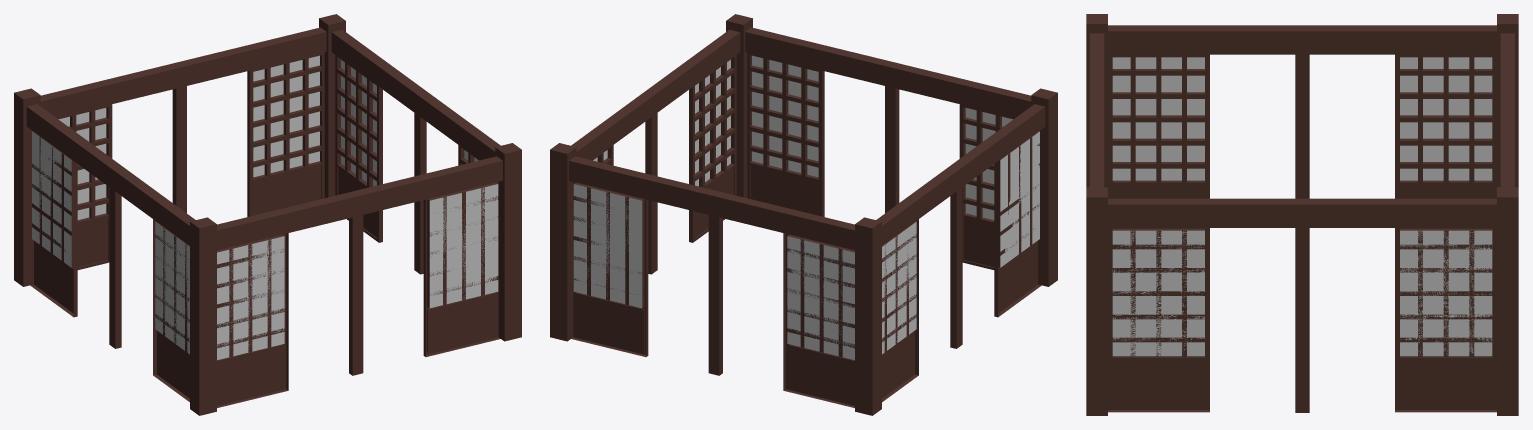
The model's file is zen room.fbx.
3 renders of one model, left to right at view 1: azimuth 30°, elevation 25°; view 2: azimuth 150°, elevation 25°; view 3: azimuth 270°, elevation 25°, orthographic. The views are drawn at different scales.
Parts seen in each view (by area): view 1: Plane.001, Cube; view 2: Plane.001, Cube; view 3: Plane.001, Cube.
Boxes of the visible parts, box(x1,y1,x2,y2) form: Plane.001: box(30, 52, 500, 407); Cube: box(14, 14, 521, 415); Plane.001: box(571, 52, 1041, 407); Cube: box(550, 14, 1057, 415); Plane.001: box(1108, 54, 1496, 412); Cube: box(1086, 14, 1518, 415).
Bounding box in the file's own units: 846 × 470 × 842.
